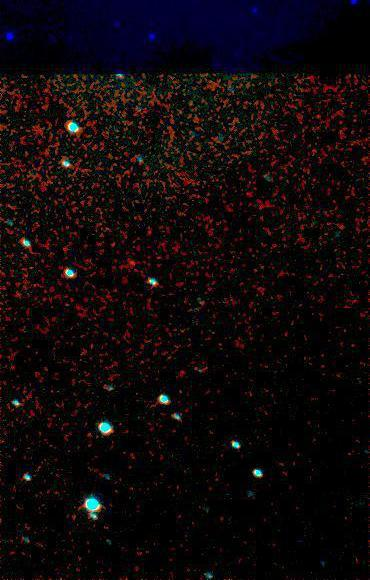star: (116, 248, 146, 278)
